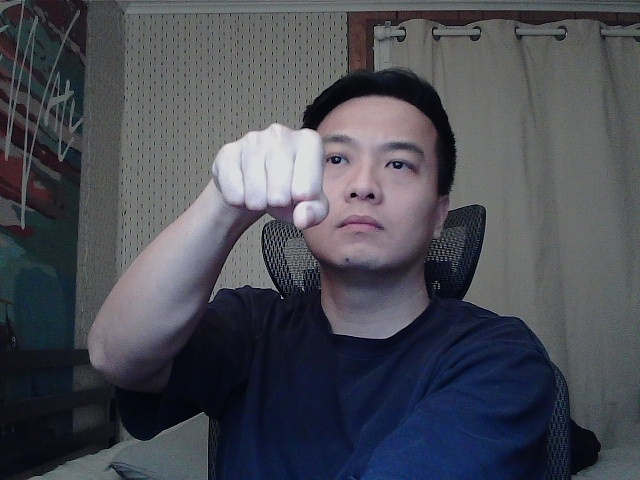Yes: (184, 107, 344, 244)
